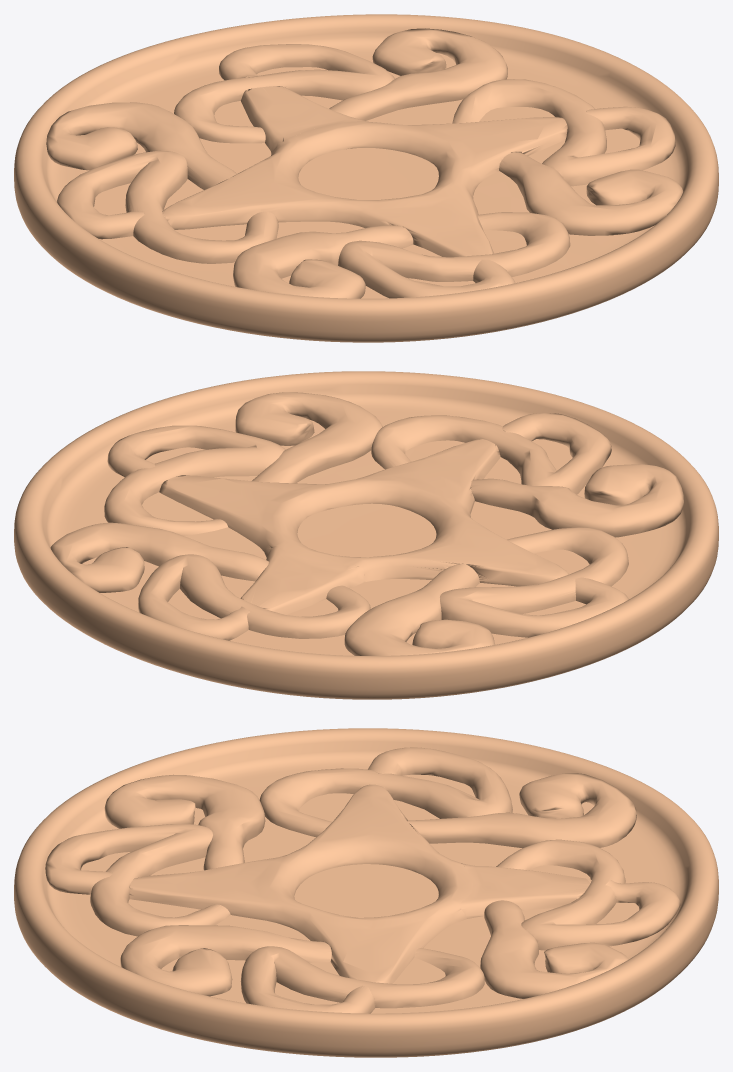
Rendered from broche-transformed.glb.
3 renders of one model, top to bottom at view 1: azimuth 30°, elevation 25°; view 2: azimuth 150°, elevation 25°; view 3: azimuth 270°, elevation 25°, orthographic.
Visible parts, largest first — view 1: Object_4; view 2: Object_4; view 3: Object_4.
Part boxes in pixels (x1,y1,x2,y2): Object_4: [14, 14, 718, 342]; Object_4: [14, 371, 718, 699]; Object_4: [14, 728, 718, 1057].
Bounding box in the file's own units: 2.35 × 0.1566 × 2.34.
